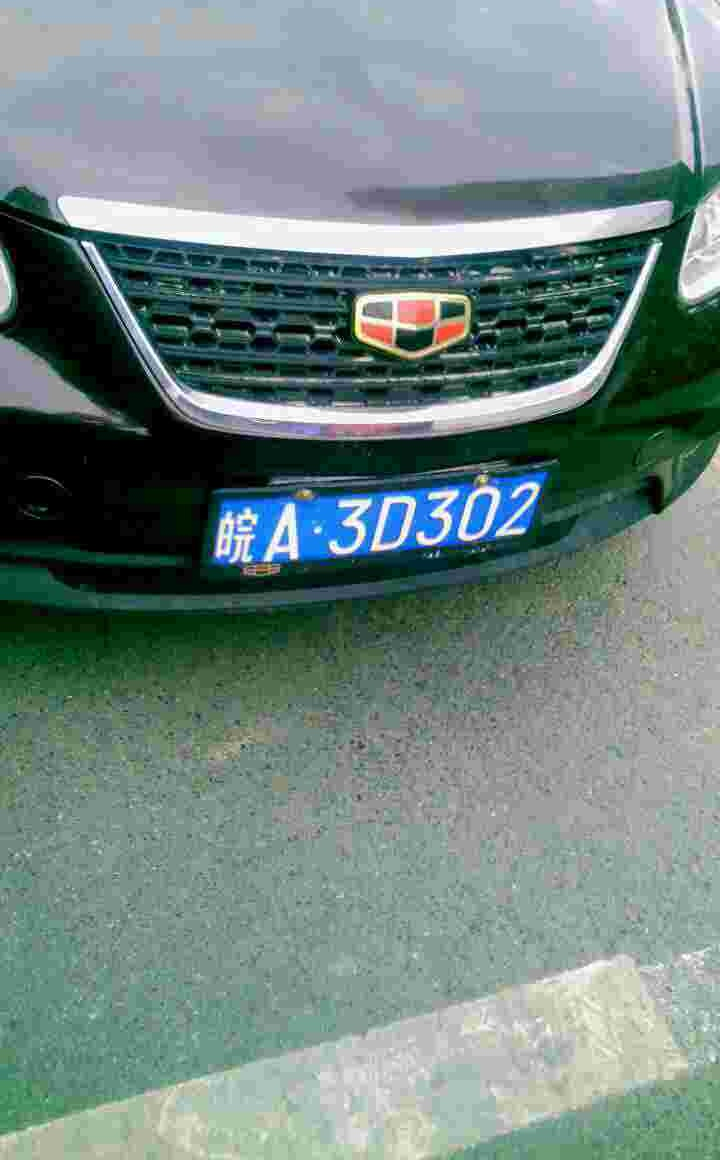license_plate: (209, 483, 542, 569)
